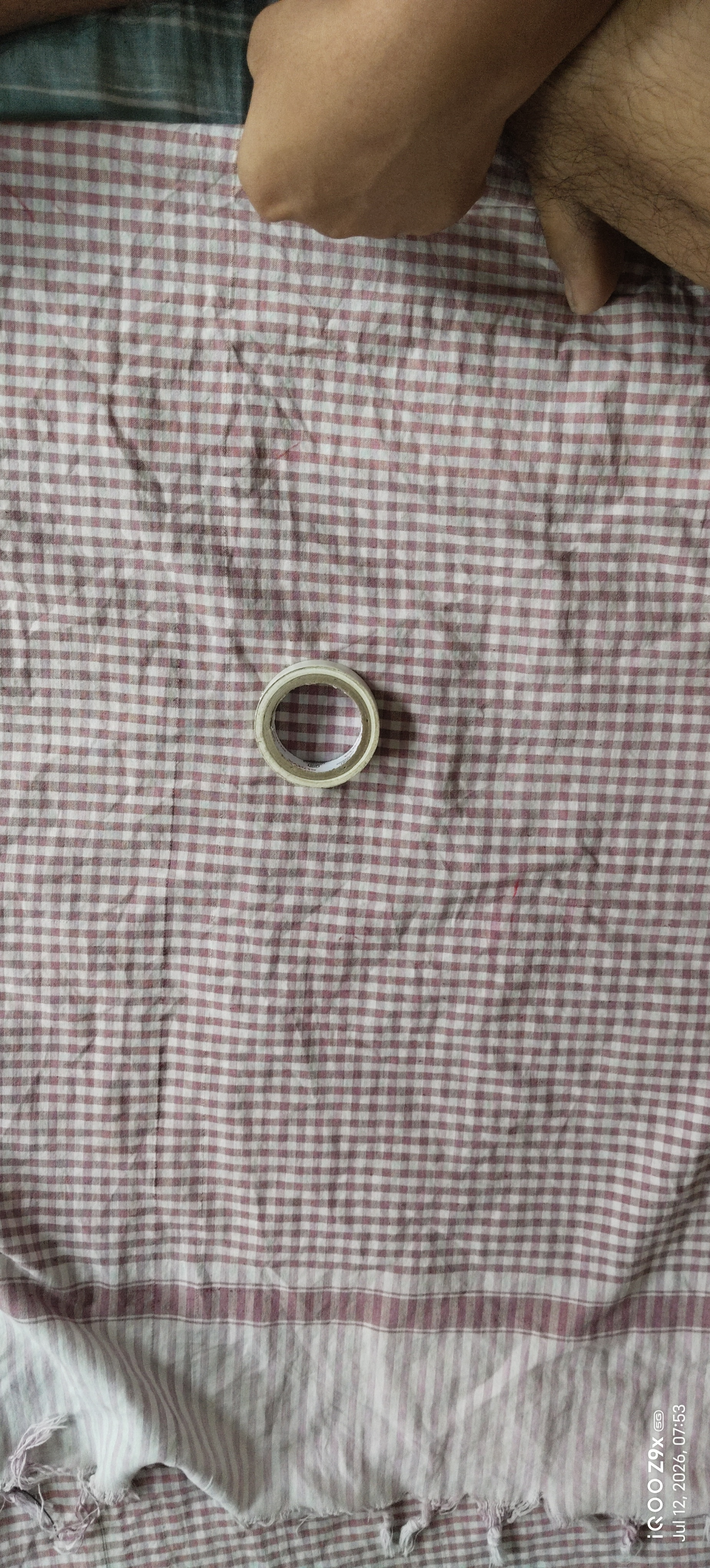tape_roll: (214, 655, 432, 814)
